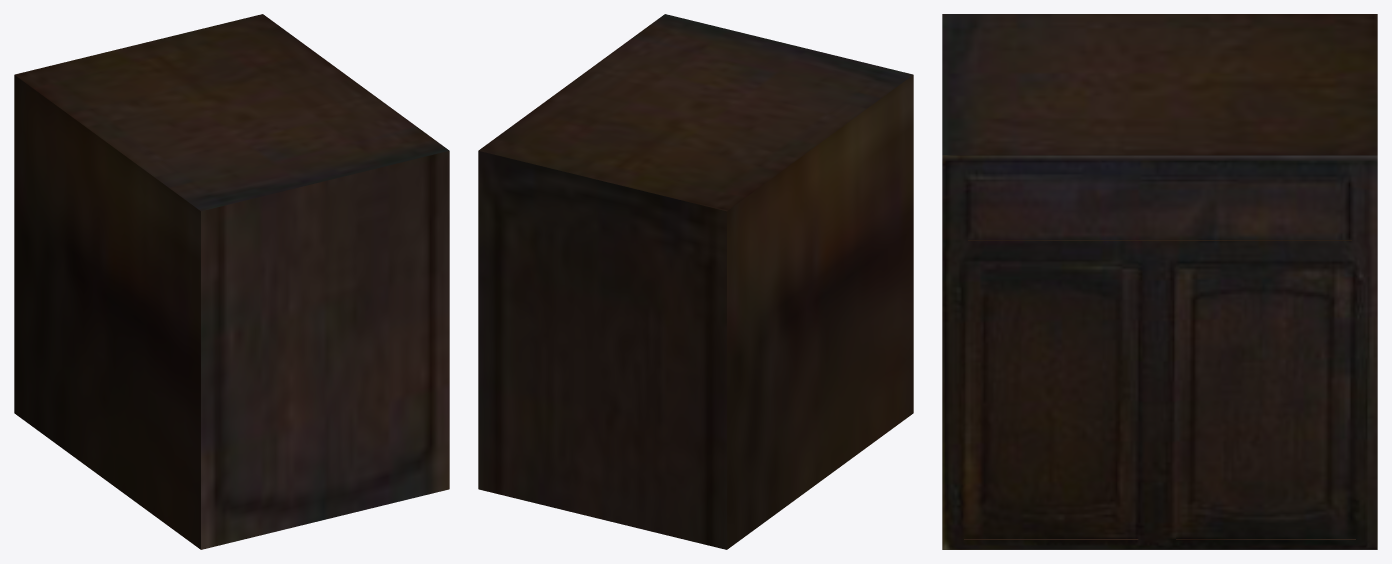
The picture shows the model from 3 angles, left to right: view 1: azimuth 30°, elevation 25°; view 2: azimuth 150°, elevation 25°; view 3: azimuth 270°, elevation 25°; orthographic projection. The views are drawn at different scales.
Visible parts, largest first — view 1: Cube; view 2: Cube; view 3: Cube, Cube.001, Cube.002, Cube.003.
Boxes of the visible parts, x1,y1,x2,y2 form: Cube: (14, 14, 449, 549); Cube: (478, 14, 913, 549); Cube: (942, 14, 1377, 549); Cube.001: (1176, 260, 1355, 538); Cube.002: (964, 260, 1138, 538); Cube.003: (968, 182, 1351, 239).
Size of the model in its own units: 1.54 by 2 by 2.
1 material, 1 textured.
